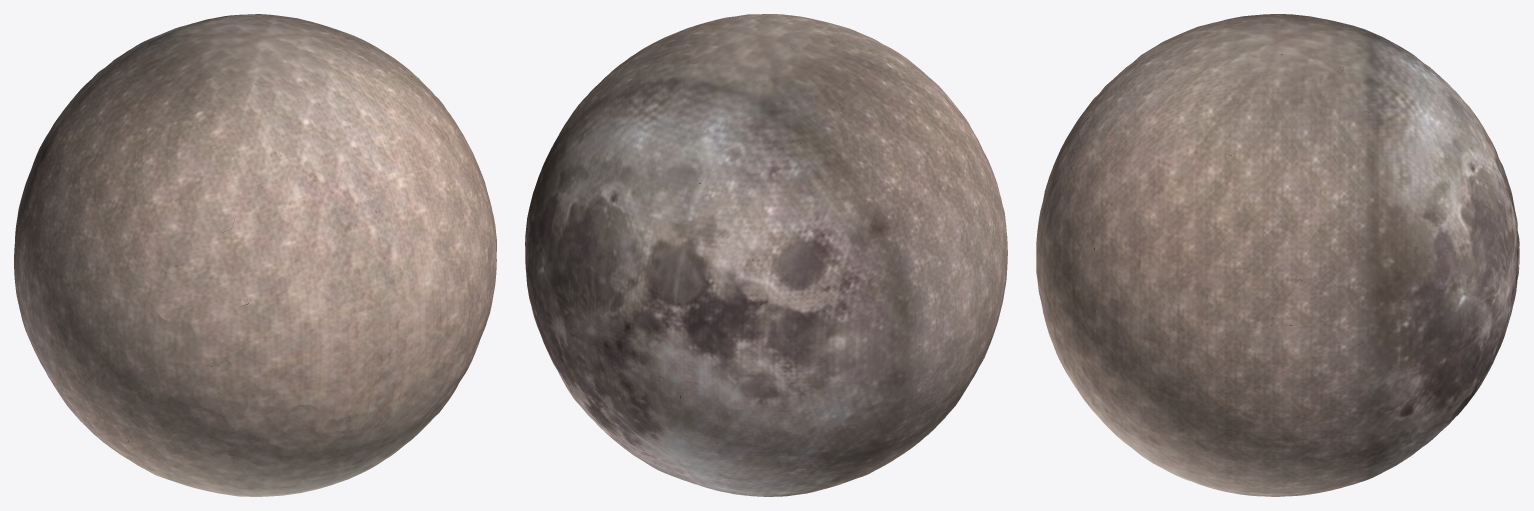
File: oggetto3.glb
The picture shows the model from 3 angles, left to right: view 1: azimuth 30°, elevation 25°; view 2: azimuth 150°, elevation 25°; view 3: azimuth 270°, elevation 25°; orthographic projection.
Visible parts, largest first — view 1: world; view 2: world; view 3: world.
Part boxes in pixels (box(x1,y1,x2,y2)): world: box(14, 14, 496, 496); world: box(525, 14, 1007, 496); world: box(1036, 14, 1519, 496).
Bounding box in the file's own units: 0.9233 × 0.9193 × 0.9244.
Materials: 1 (1 with a texture image).
